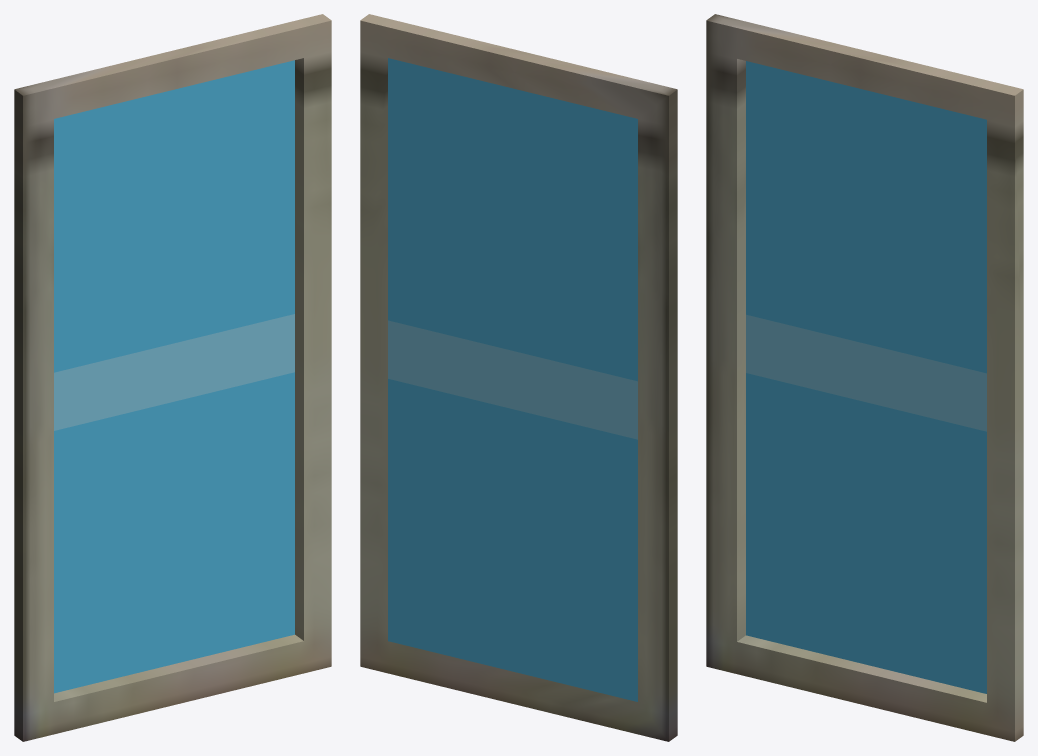
The model's file is door_left.fbx.
3 views of the same model, side by side, from view 1: azimuth 30°, elevation 25°; view 2: azimuth 150°, elevation 25°; view 3: azimuth 330°, elevation 25° (orthographic).
Visible parts, largest first — view 1: WideDoorLeft; view 2: WideDoorLeft; view 3: WideDoorLeft.
Part boxes in pixels (x1,y1,x2,y2): WideDoorLeft: (14,14,331,741); WideDoorLeft: (360,14,677,741); WideDoorLeft: (706,14,1023,741).
Size of the model in its own units: 200 by 400 by 10.
Materials: 3 (1 with a texture image).
